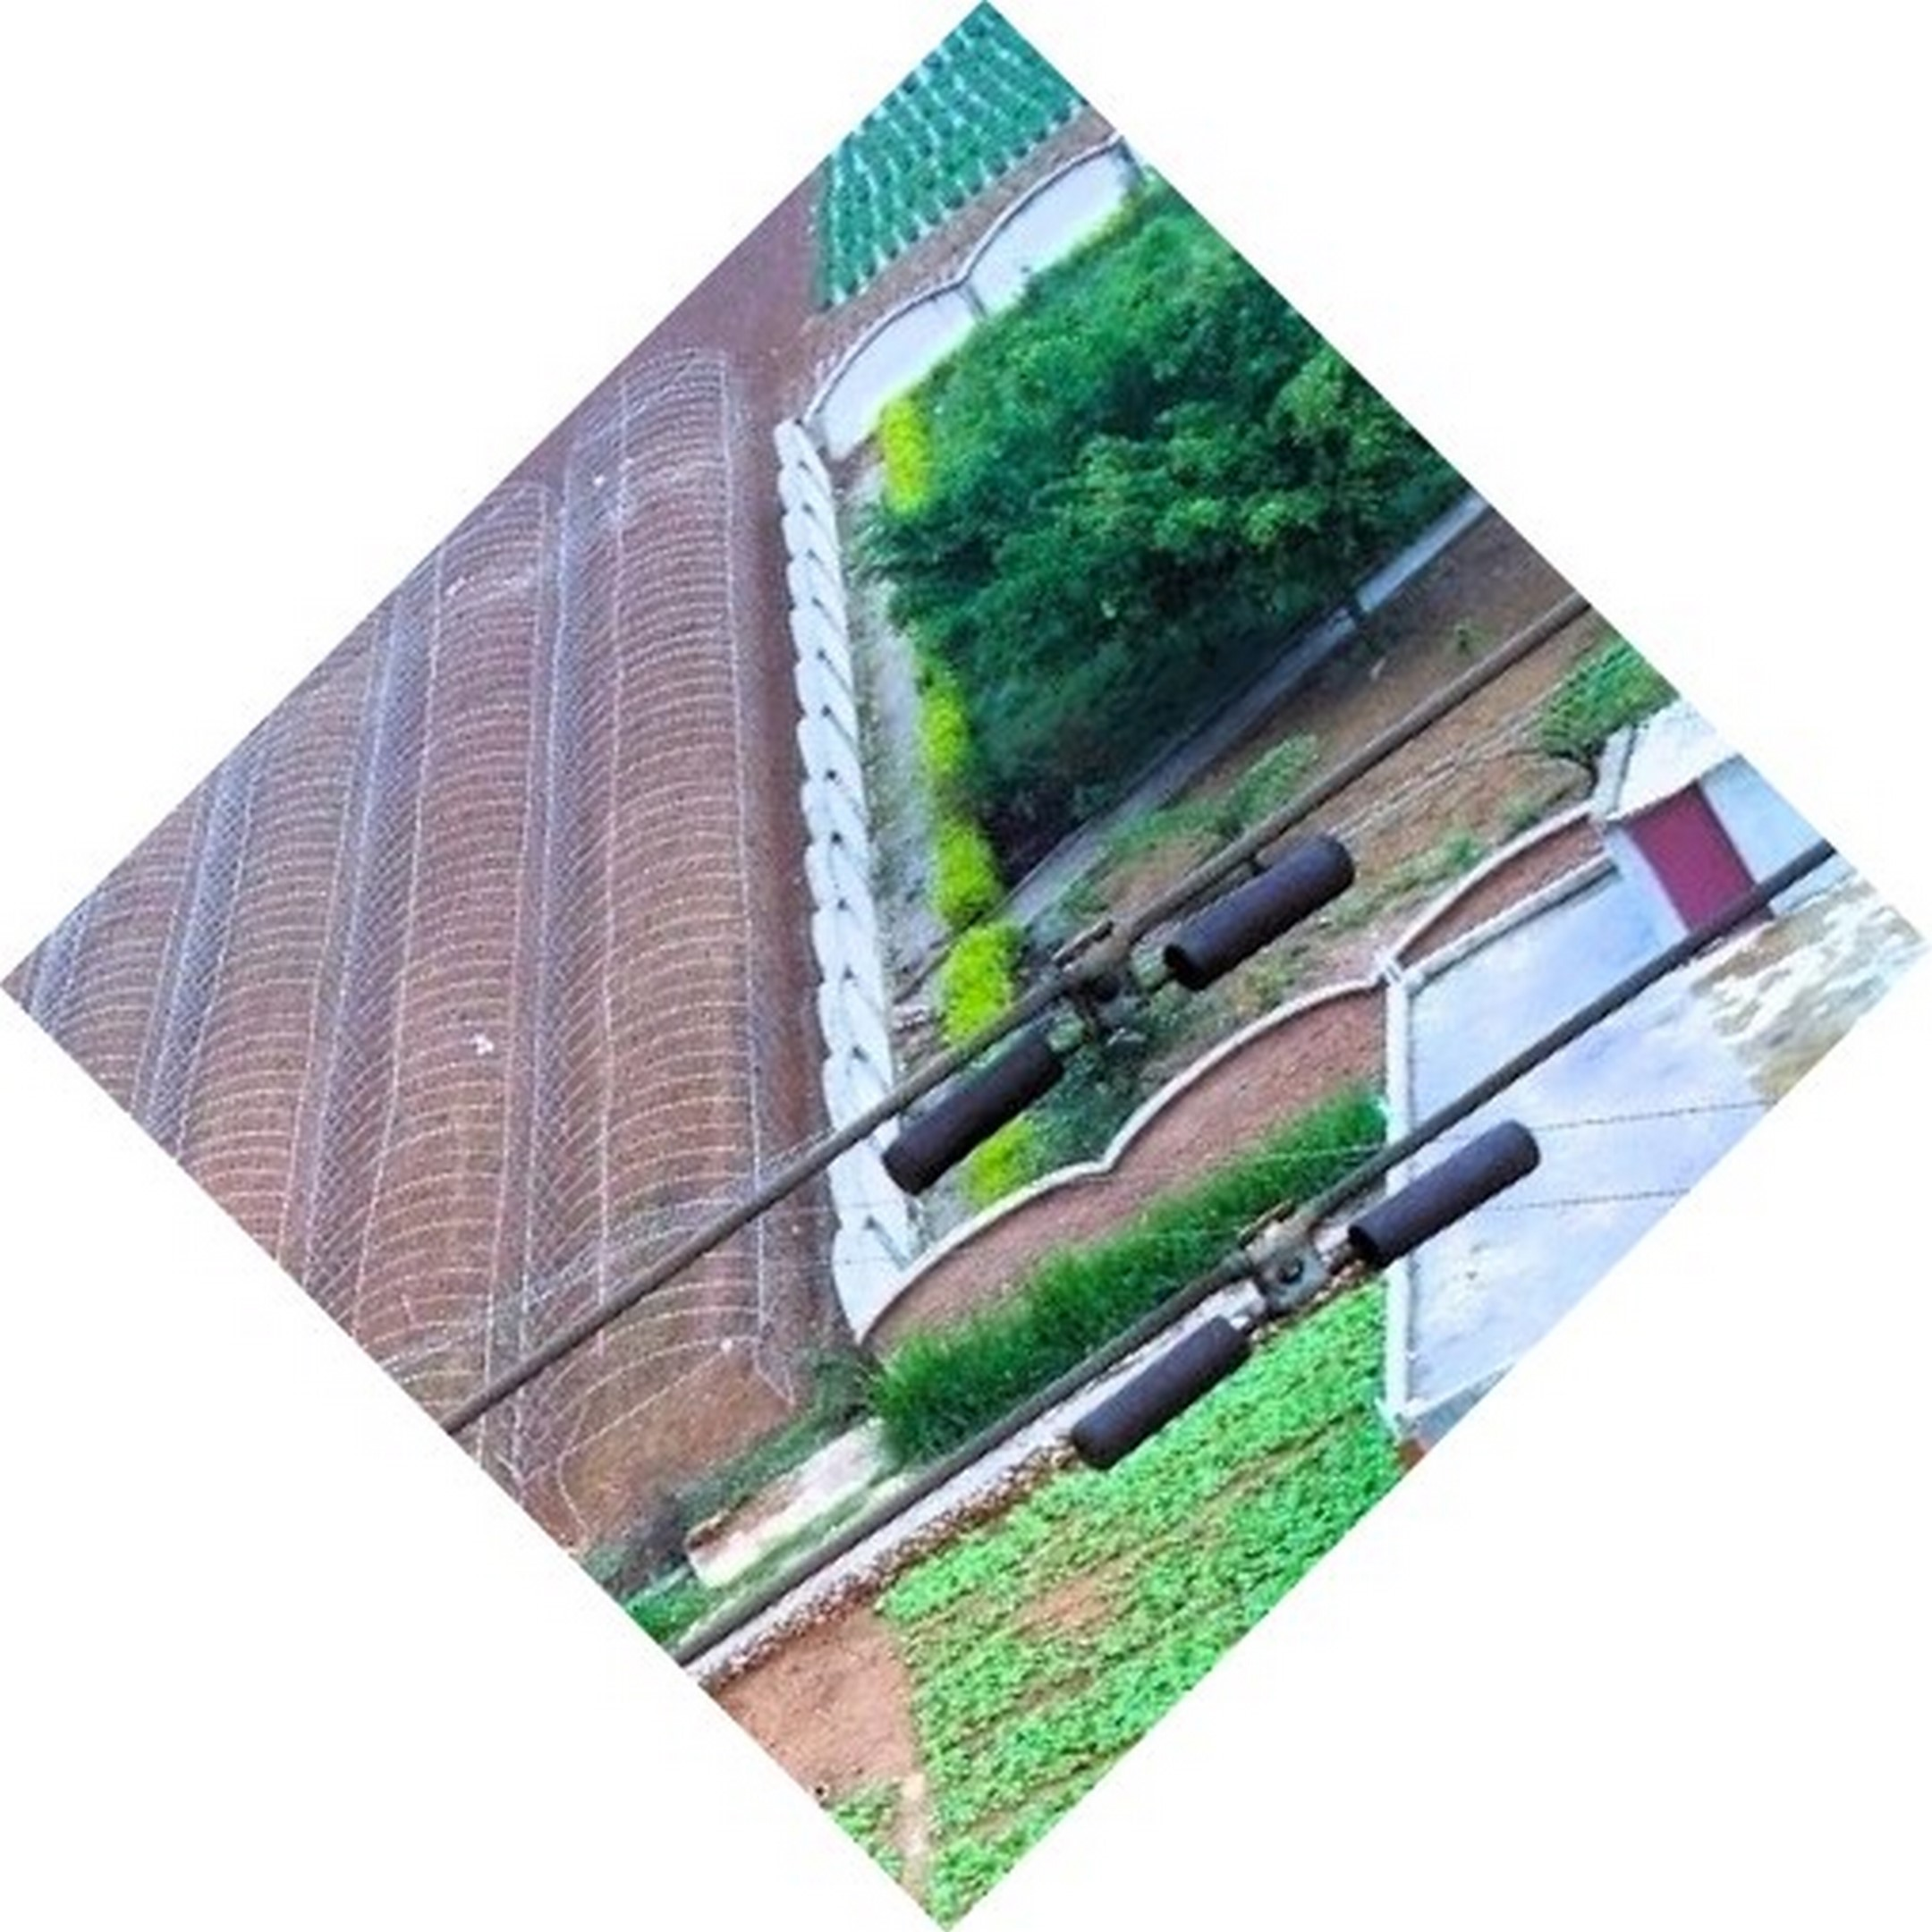Shockproof hammer: (849, 793, 1369, 1207), (1035, 1111, 1564, 1495)
